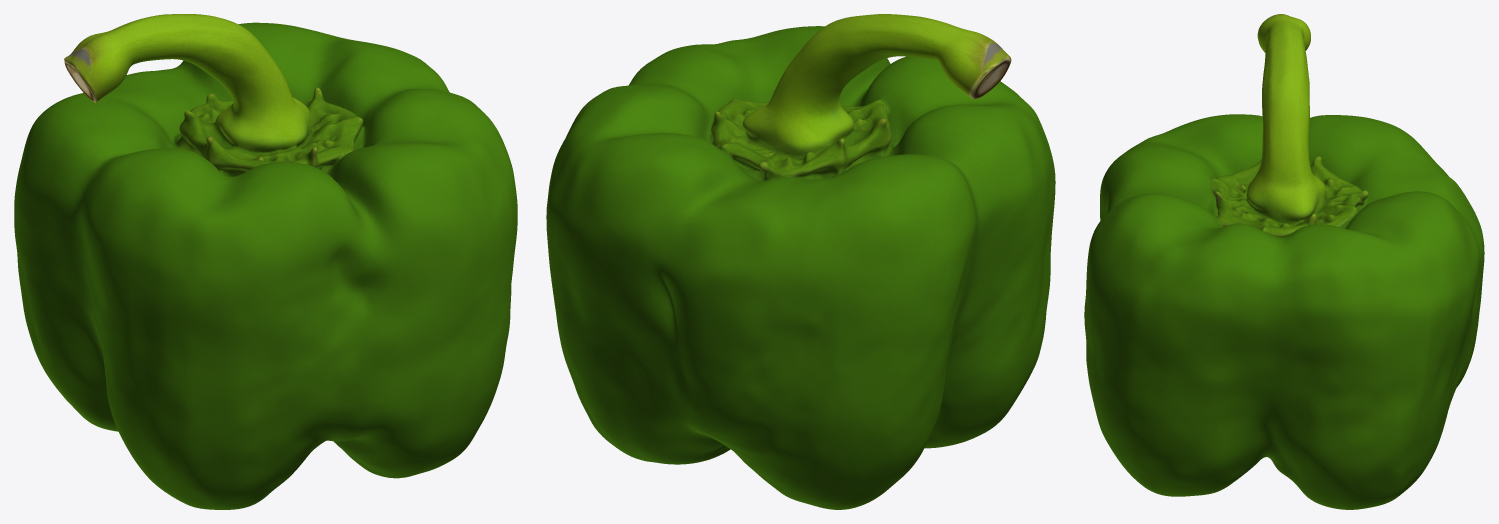
The picture shows the model from 3 angles, left to right: view 1: azimuth 30°, elevation 25°; view 2: azimuth 150°, elevation 25°; view 3: azimuth 270°, elevation 25°; orthographic projection. The views are drawn at different scales.
Bounding box in the file's own units: 1.74 × 1.9 × 1.79.
1 material, 1 textured.
